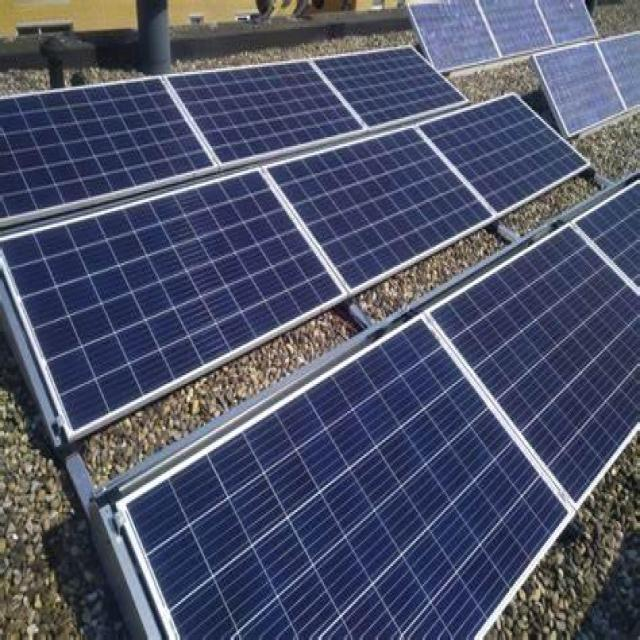Non Defective: (130, 193, 634, 639), (9, 97, 581, 419), (7, 51, 454, 209)
